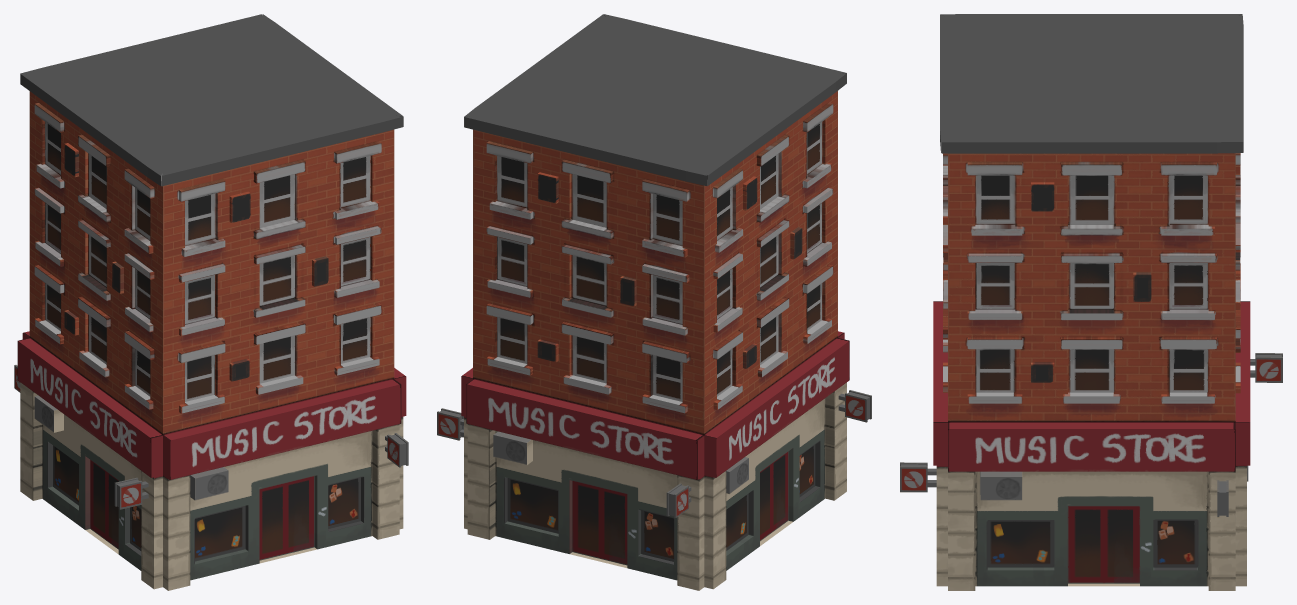
Rendered from predio2.fbx.
3 views of the same model, side by side, from view 1: azimuth 30°, elevation 25°; view 2: azimuth 150°, elevation 25°; view 3: azimuth 270°, elevation 25° (orthographic). The views are drawn at different scales.
Parts seen in each view (by area): view 1: predio2_Texture; view 2: predio2_Texture; view 3: predio2_Texture.
Part boxes in pixels (x1,y1,x2,y2): predio2_Texture: (14, 14, 408, 590); predio2_Texture: (437, 14, 871, 590); predio2_Texture: (900, 14, 1282, 590).
Bounding box in the file's own units: 133 × 171 × 133.
